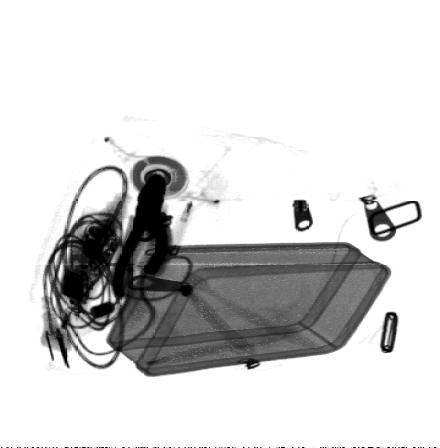Pliers: (111, 173, 174, 298)
